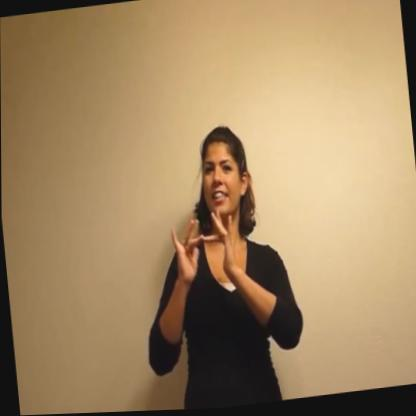Internet: (127, 120, 305, 412)
